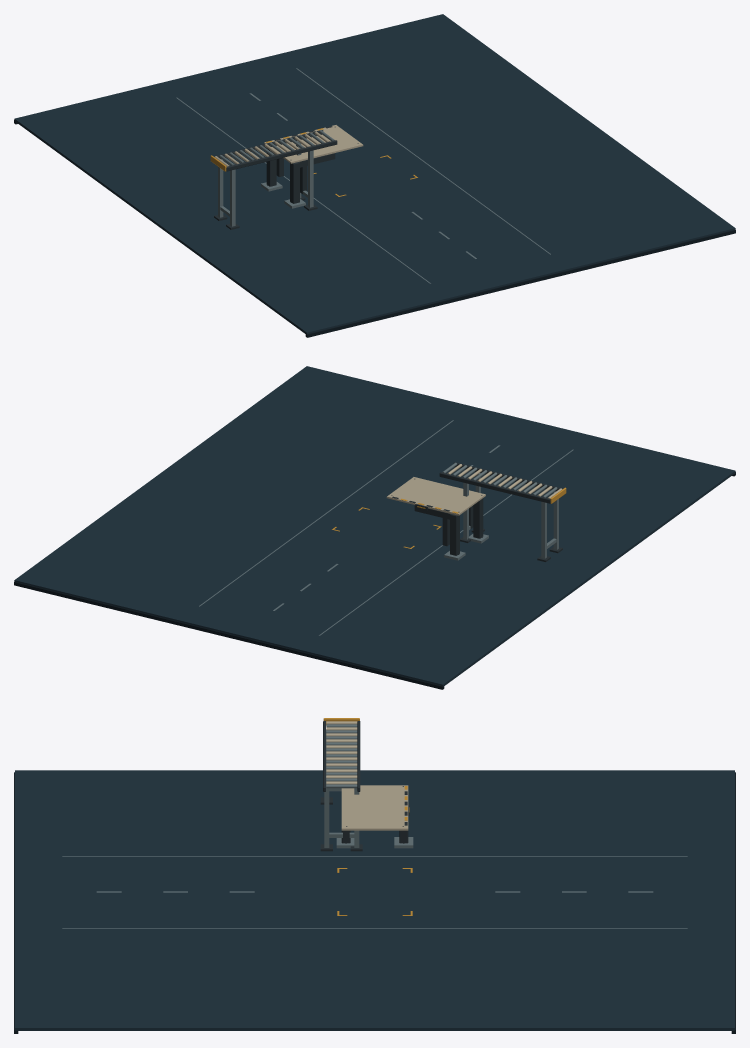
Rendered from station_d0_lod1.glb.
The picture shows the model from 3 angles, top to bottom: view 1: azimuth 30°, elevation 25°; view 2: azimuth 150°, elevation 25°; view 3: azimuth 270°, elevation 25°; orthographic projection. The views are drawn at different scales.
Parts seen in each view (by area): view 1: STATION_SURFACE; view 2: STATION_SURFACE; view 3: STATION_SURFACE.
Part boxes in pixels (x1,y1,x2,y2): STATION_SURFACE: [14, 14, 735, 337]; STATION_SURFACE: [14, 366, 735, 689]; STATION_SURFACE: [14, 718, 735, 1033].
Size of the model in its own units: 11 by 1.69 by 13.04.
